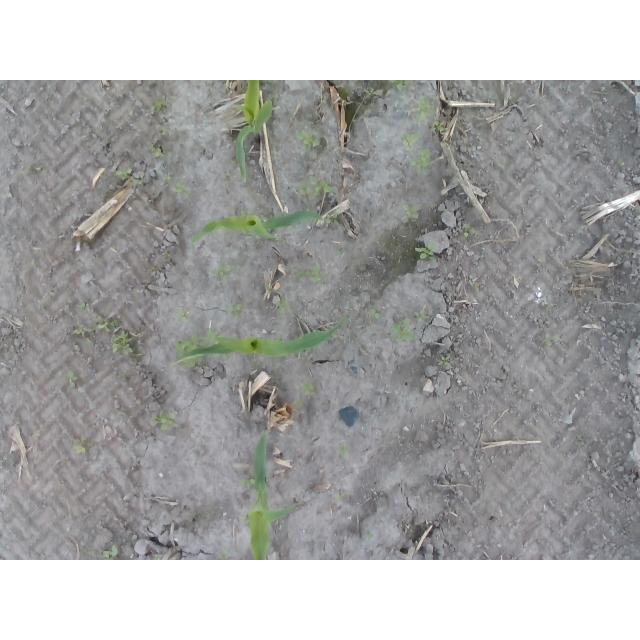Maize: (173, 317, 349, 365), (247, 430, 298, 560), (192, 210, 324, 249), (235, 80, 274, 185)
Weeds: (71, 302, 107, 340), (93, 324, 135, 354), (404, 134, 432, 170), (294, 180, 333, 201), (409, 99, 439, 126), (295, 129, 321, 152), (299, 263, 325, 285), (149, 98, 171, 120), (212, 264, 233, 287), (393, 321, 416, 341), (116, 169, 145, 184), (84, 546, 118, 558), (403, 204, 422, 224), (156, 411, 176, 429), (417, 245, 435, 263), (298, 379, 315, 398), (415, 308, 434, 325), (389, 81, 415, 92), (172, 184, 188, 199), (276, 301, 293, 315), (369, 307, 383, 323), (459, 224, 475, 238), (228, 306, 244, 319), (67, 373, 79, 387), (440, 353, 452, 367), (161, 171, 175, 183), (178, 307, 190, 320), (153, 147, 164, 161), (339, 445, 350, 459), (72, 445, 84, 454), (546, 337, 556, 347)
